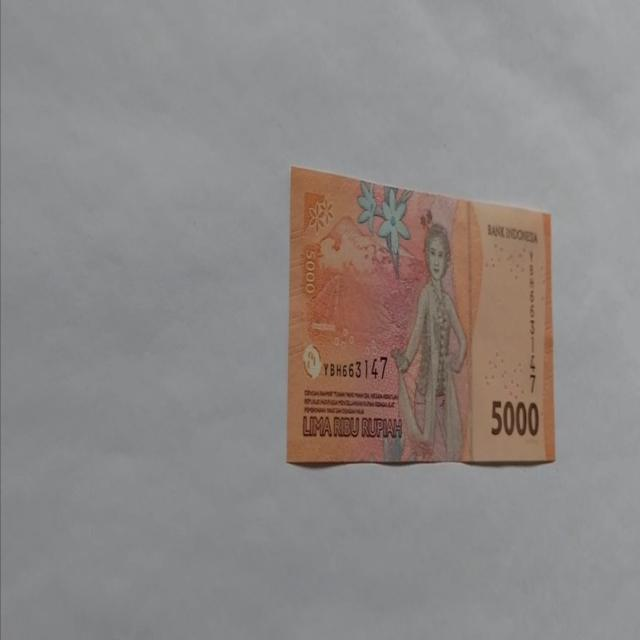lima ribu rupiah: (286, 164, 556, 468), (390, 222, 468, 462)
